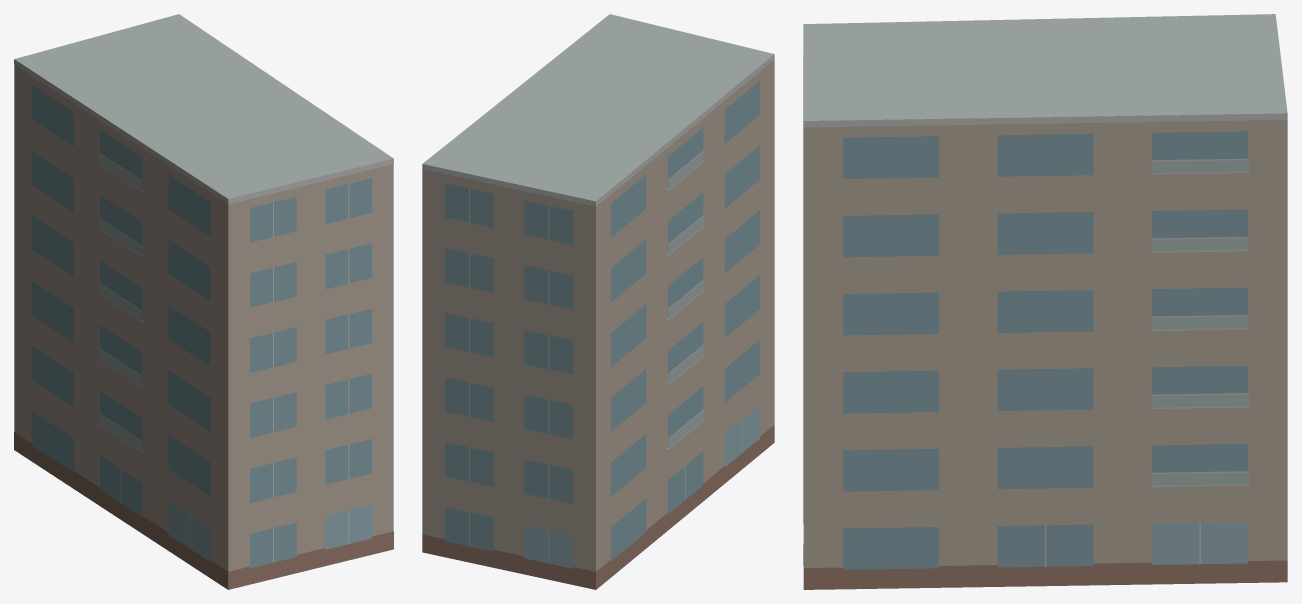
The model's file is survey-upis-32747236.glb.
The picture shows the model from 3 angles, left to right: view 1: azimuth 30°, elevation 25°; view 2: azimuth 150°, elevation 25°; view 3: azimuth 270°, elevation 25°; orthographic projection. The views are drawn at different scales.
Visible parts, largest first — view 1: survey-upis-32747236.tmp; view 2: survey-upis-32747236.tmp; view 3: survey-upis-32747236.tmp.
Boxes of the visible parts, <box> form: survey-upis-32747236.tmp: <box>14,14,393,589</box>; survey-upis-32747236.tmp: <box>422,14,774,589</box>; survey-upis-32747236.tmp: <box>803,14,1287,589</box>.
Bounding box in the file's own units: 8.68 × 17.7 × 16.58.
